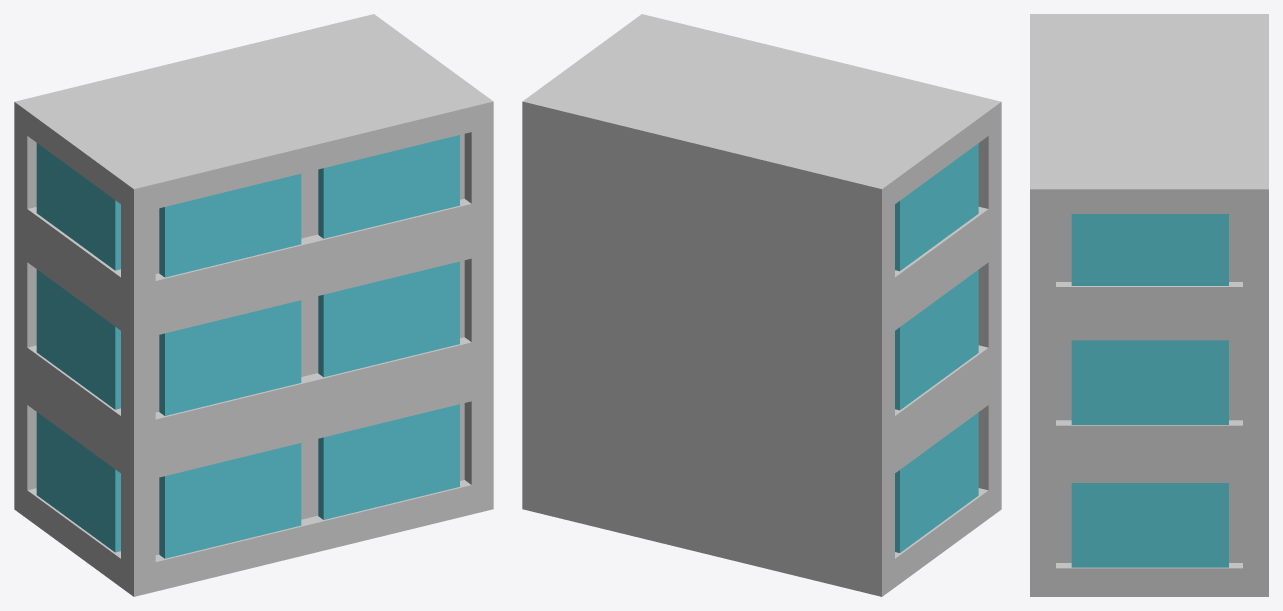
Rendered from BigHouseBlock.fbx.
The picture shows the model from 3 angles, left to right: view 1: azimuth 30°, elevation 25°; view 2: azimuth 150°, elevation 25°; view 3: azimuth 270°, elevation 25°; orthographic projection.
Parts seen in each view (by area): view 1: pCube29, pCube66; view 2: pCube29, pCube66; view 3: pCube29, pCube66.
Part boxes in pixels (left/top/right/bottom): pCube29: left=14, top=14, right=493, bottom=596; pCube66: left=36, top=135, right=459, bottom=558; pCube29: left=522, top=14, right=1001, bottom=596; pCube66: left=895, top=143, right=978, bottom=552; pCube29: left=1030, top=14, right=1268, bottom=596; pCube66: left=1071, top=214, right=1228, bottom=567.
Bounding box in the file's own units: 10.26 × 11.11 × 5.9.
